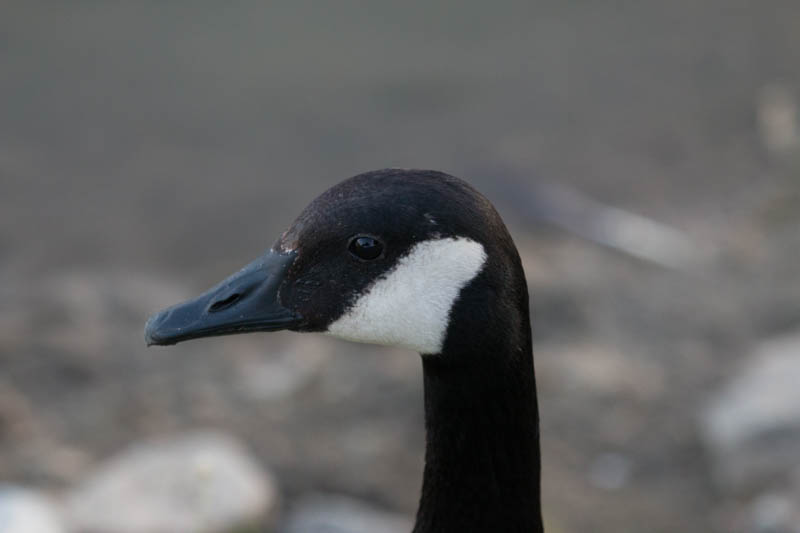goose-head: (142, 168, 533, 355)
